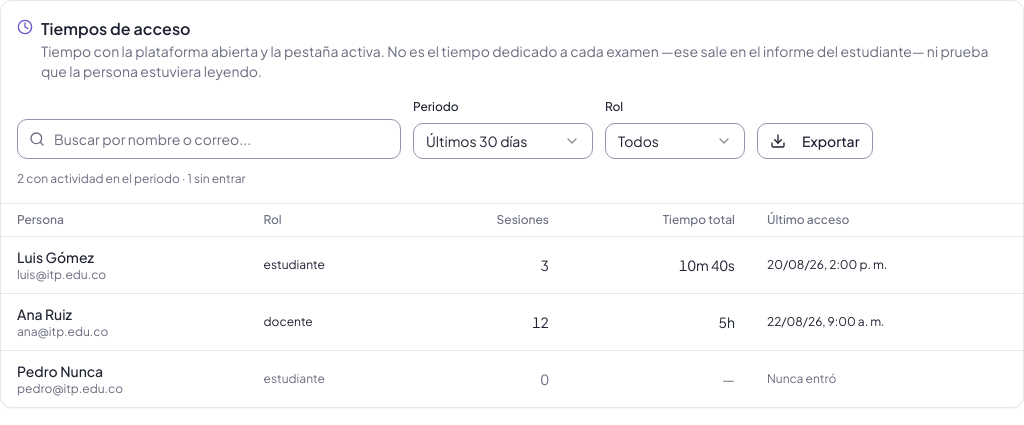
Test: Tarea 13 · auditoría de tiempos de acceso › filtra por rol
Expected: the text "Ana Ruiz" is shown, left=17, top=305, right=72, bottom=323
Click the dropdown named "Rol" at x=675, y=141, box left=605, top=123, right=745, bottom=159
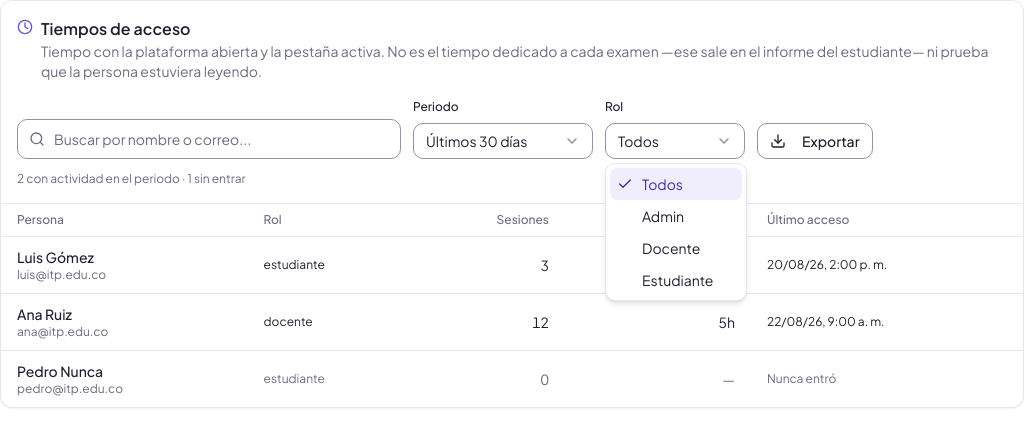
Click the option "Docente" at x=671, y=248, box left=642, top=239, right=700, bottom=257
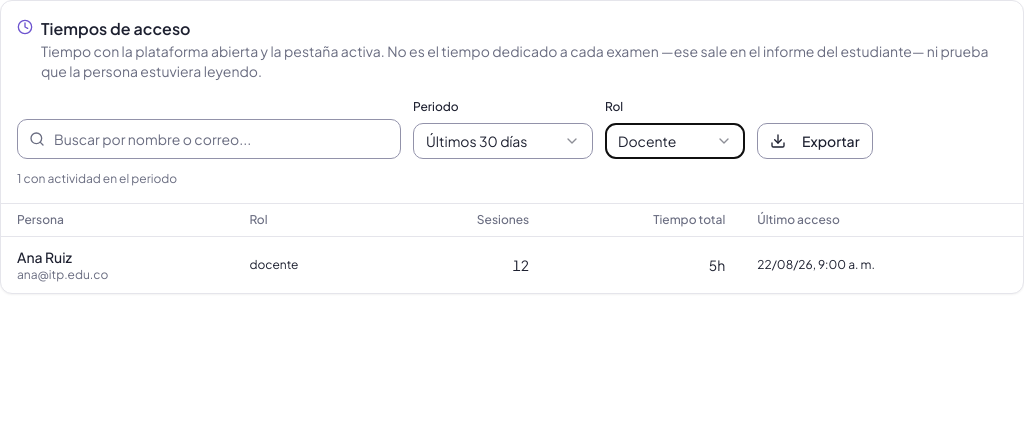
Expected: the text "Ana Ruiz" is shown, left=17, top=248, right=72, bottom=266
Expected: the text "Luis Gómez" is gone
